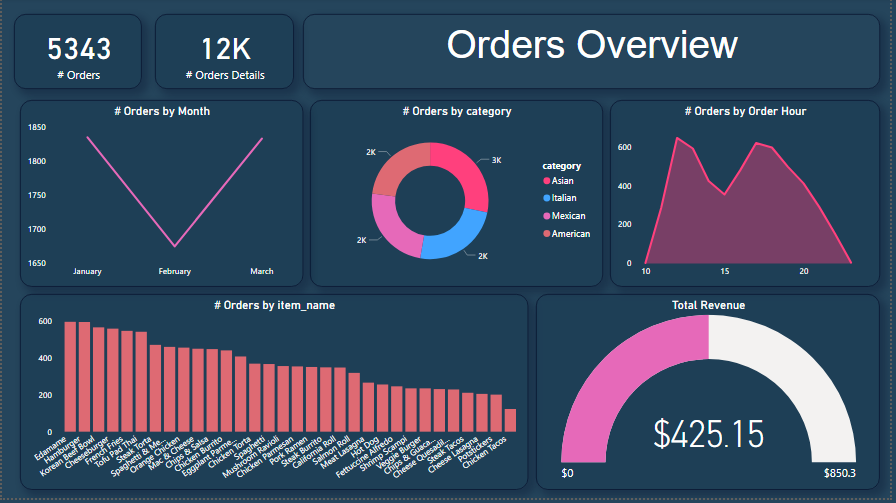

What the dashboard file says about the page in this screenshot:
{"tool":"powerbi","page":{"name":"Orders Overview","canvas":[1280,720],"ordinal":1},"visuals":[{"type":"card","fields":{"Values":["Dax Measures.# Orders Details"]},"box":[220.3,23,200.2,108],"z":0},{"type":"card","fields":{"Values":["Dax Measures.# Orders"]},"box":[17.3,23,184.3,108],"z":1000},{"type":"textbox","box":[433.4,23,830.9,108],"z":2000},{"type":"donutChart","fields":{"Category":["Menu.category"],"Y":["Dax Measures.# Orders"]},"box":[443.5,146.9,421.9,269.3],"z":3000},{"type":"areaChart","fields":{"Category":["order_details.Order Hour"],"Y":["Dax Measures.# Orders"]},"box":[875.5,146.9,388.8,269.3],"z":4000},{"type":"lineChart","fields":{"Y":["Dax Measures.# Orders"],"Category":["order_details.order_date.Variation.Date Hierarchy.Month","order_details.order_date.Variation.Date Hierarchy.Day"]},"box":[25.9,146.9,407.5,269.3],"z":5000},{"type":"columnChart","fields":{"Y":["Dax Measures.# Orders"],"Category":["Menu.item_name"]},"box":[25.9,426.2,731.5,282.2],"z":6000},{"type":"gauge","fields":{"Y":["Dax Measures.Total Revenue"]},"box":[769,426.2,495.4,282.2],"z":6001}]}

Visuals, with their boxes in screenshot pixels (x1, y1, x2, y2), scaled from the page's 1280x720 canvas onto the 896x503 screenshot:
card - Dax Measures.# Orders Details: left=154, top=16, right=294, bottom=92
card - Dax Measures.# Orders: left=12, top=16, right=141, bottom=92
textbox: left=303, top=16, right=885, bottom=92
donutChart - Menu.category x Dax Measures.# Orders: left=310, top=103, right=606, bottom=291
areaChart - order_details.Order Hour x Dax Measures.# Orders: left=613, top=103, right=885, bottom=291
lineChart - Dax Measures.# Orders x order_details.order_date.Variation.Date Hierarchy.Month: left=18, top=103, right=303, bottom=291
columnChart - Dax Measures.# Orders x Menu.item_name: left=18, top=298, right=530, bottom=495
gauge - Dax Measures.Total Revenue: left=538, top=298, right=885, bottom=495
